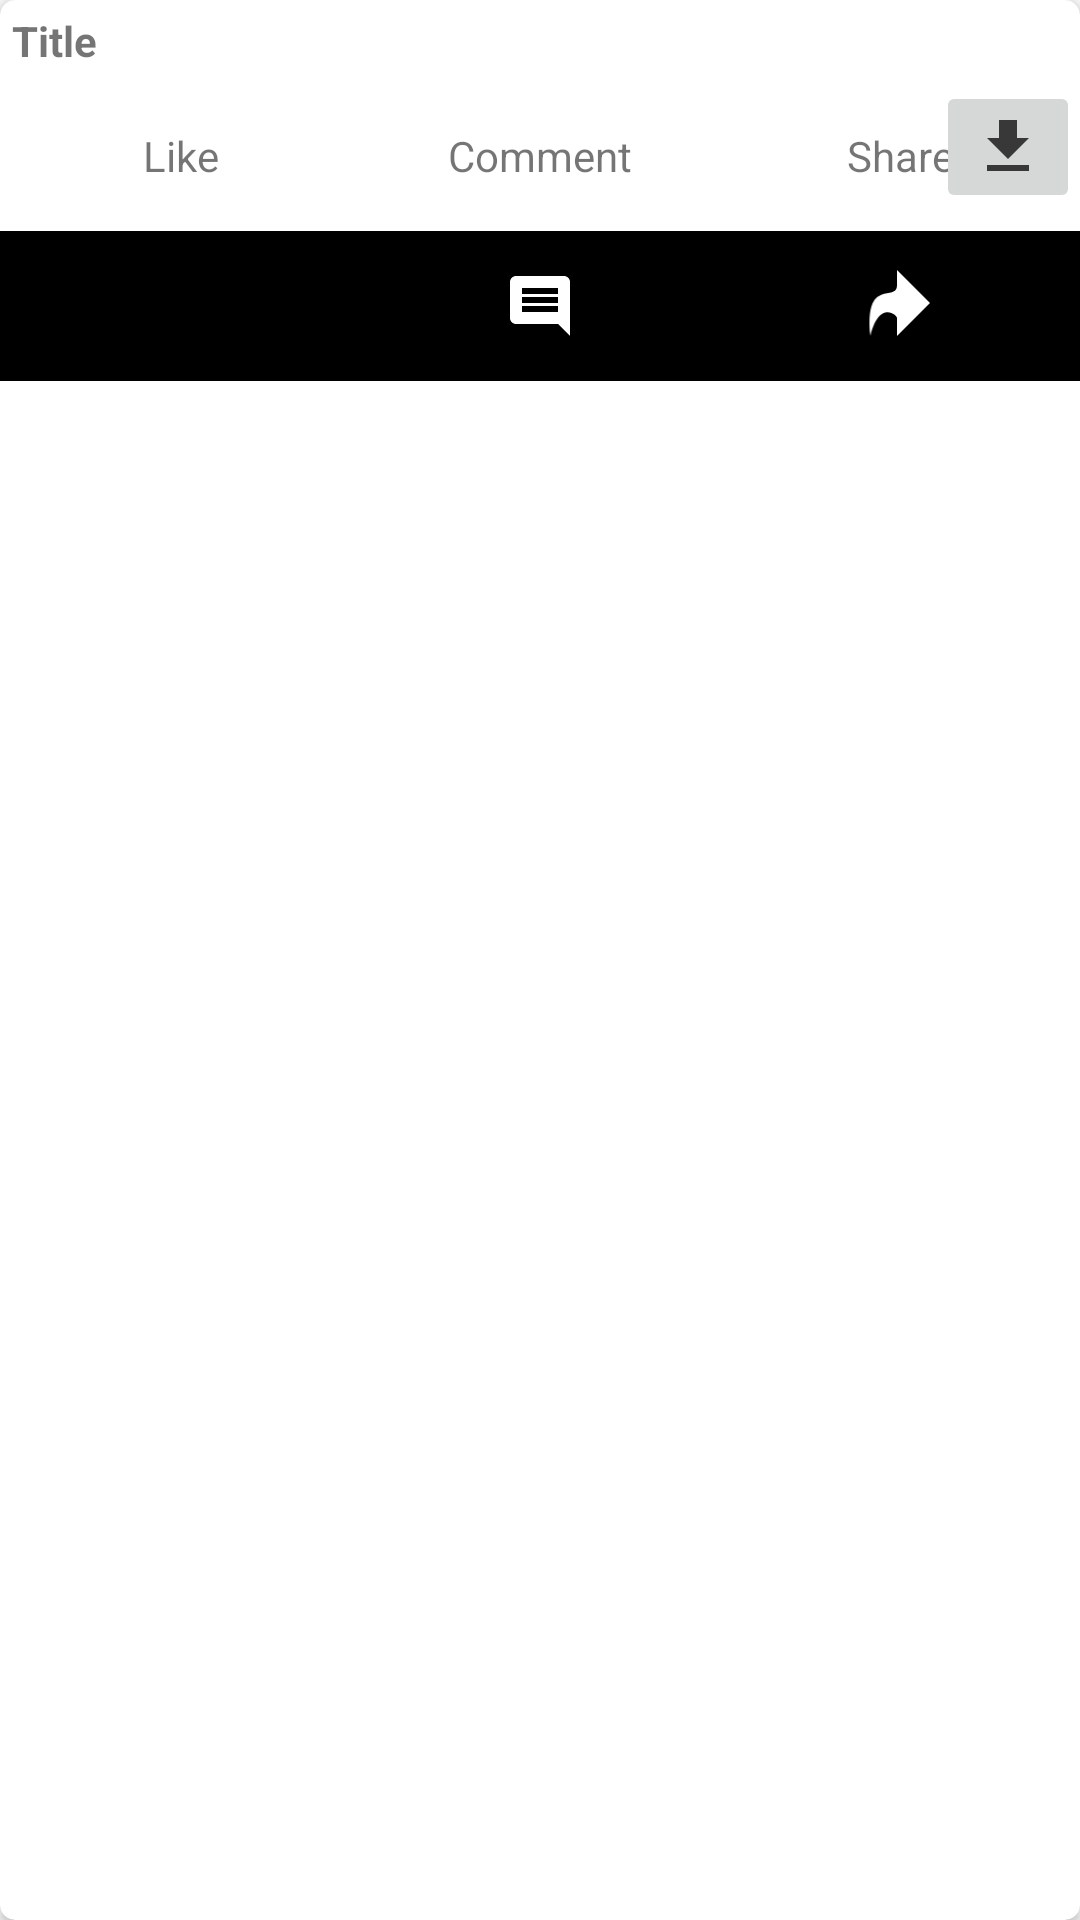

Where to tap for icons on this 1080 x 1920 app screen, as (x=x, y=y):
file download: (x=1002, y=147)
